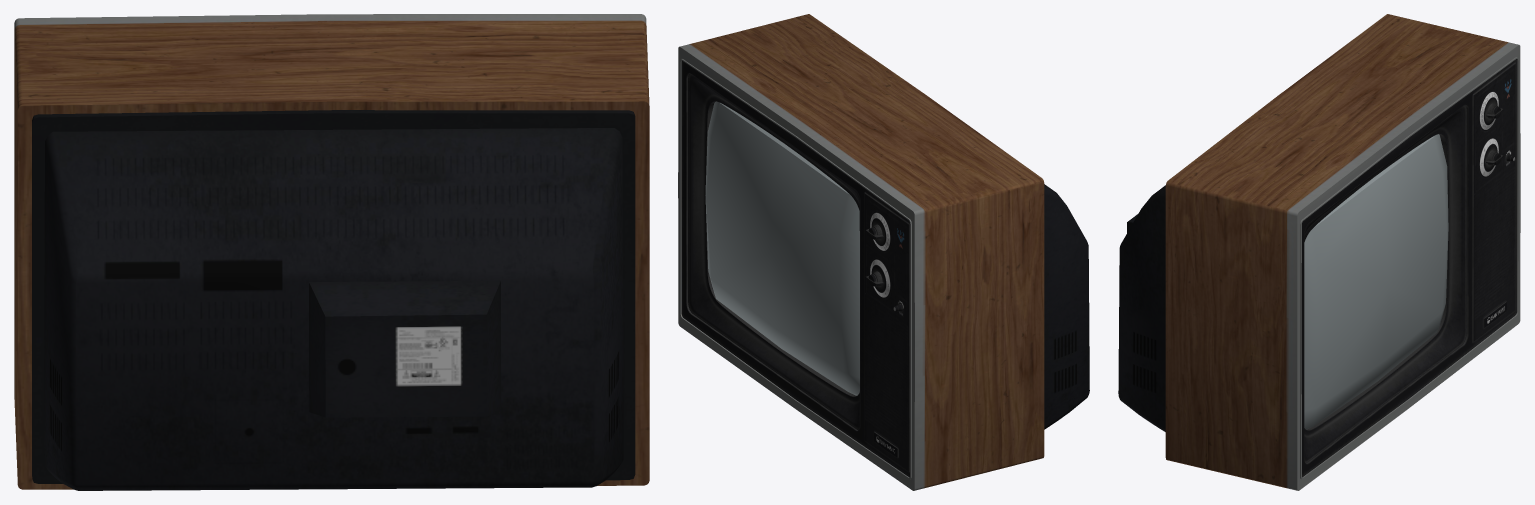
Rendered from Livingroom_TV.fbx.
3 renders of one model, left to right at view 1: azimuth 30°, elevation 25°; view 2: azimuth 150°, elevation 25°; view 3: azimuth 270°, elevation 25°, orthographic. The views are drawn at different scales.
Parts seen in each view (by area): view 1: TV_1970; view 2: TV_1970; view 3: TV_1970.
Boxes of the visible parts, left/top/right/bottom form: TV_1970: left=14, top=14, right=649, bottom=490; TV_1970: left=678, top=14, right=1089, bottom=490; TV_1970: left=1118, top=14, right=1520, bottom=490.
Bounding box in the file's own units: 91.59 × 76.95 × 59.42.
1 material, 1 textured.
